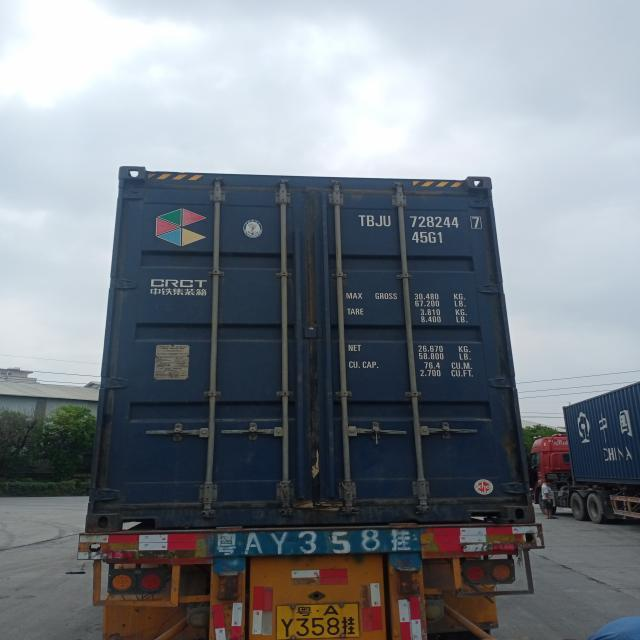ISO: (412, 230, 446, 247)
container_number: (360, 212, 484, 230)
